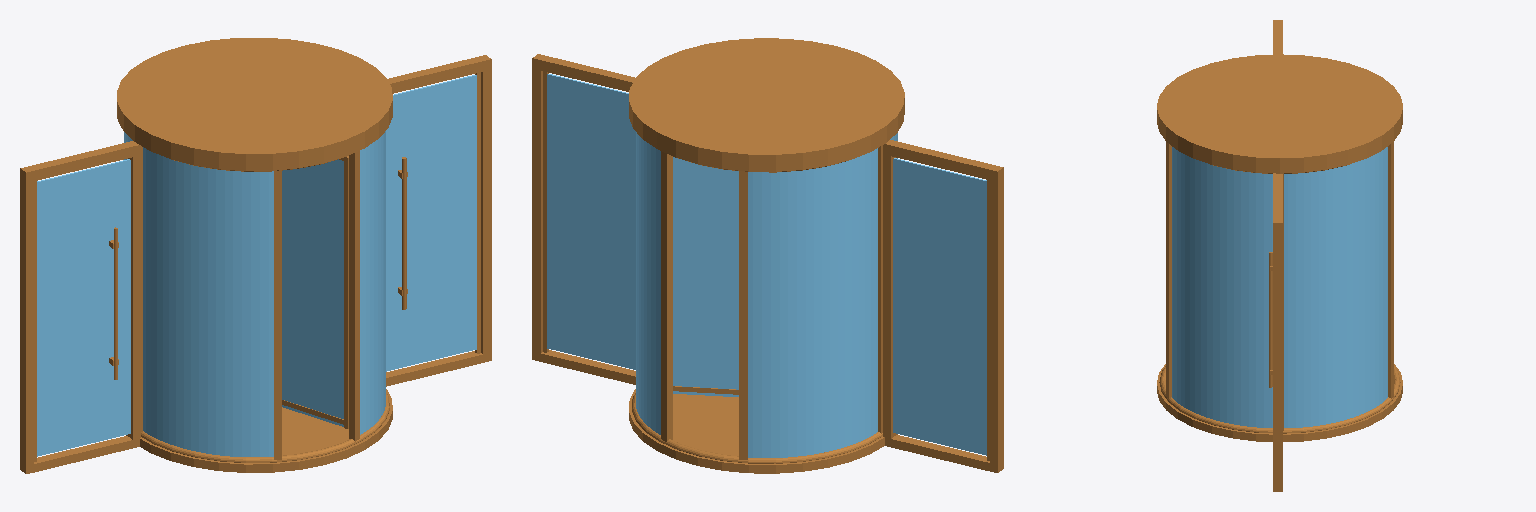
The robot description file, URDF, robot "standalone_revolving_glass_entrance":
<robot name="standalone_revolving_glass_entrance">
  <material name="warm_brushed_bronze">
    <color rgba="0.78 0.55 0.3 1" />
    </material>
  <material name="shadow_bronze_gasket">
    <color rgba="0.23 0.16 0.1 1" />
    </material>
  <material name="slightly_blue_transparent_glass">
    <color rgba="0.55 0.84 1 0.34" />
    </material>
  <link name="central_frame">
    <visual name="floor_disk">
      <origin xyz="0 0 0.04" rpy="0 0 0" />
      <geometry>
        <cylinder radius="1.18" length="0.08" />
        </geometry>
      <material name="warm_brushed_bronze">
        <color rgba="0.78 0.55 0.3 1" />
        </material>
      </visual>
    <visual name="threshold_ring">
      <origin xyz="0 0 0.085" rpy="0 0 0" />
      <geometry>
        <mesh filename="assets/meshes/threshold_ring.obj" />
        </geometry>
      <material name="warm_brushed_bronze">
        <color rgba="0.78 0.55 0.3 1" />
        </material>
      </visual>
    <visual name="canopy_disk">
      <origin xyz="0 0 2.92" rpy="0 0 0" />
      <geometry>
        <cylinder radius="1.18" length="0.16" />
        </geometry>
      <material name="warm_brushed_bronze">
        <color rgba="0.78 0.55 0.3 1" />
        </material>
      </visual>
    <visual name="canopy_ring">
      <origin xyz="0 0 2.85" rpy="0 0 0" />
      <geometry>
        <mesh filename="assets/meshes/canopy_outer_ring.obj" />
        </geometry>
      <material name="warm_brushed_bronze">
        <color rgba="0.78 0.55 0.3 1" />
        </material>
      </visual>
    <visual name="canopy_underside_shadow">
      <origin xyz="0 0 2.84" rpy="0 0 0" />
      <geometry>
        <mesh filename="assets/meshes/canopy_inner_shadow_ring.obj" />
        </geometry>
      <material name="shadow_bronze_gasket">
        <color rgba="0.23 0.16 0.1 1" />
        </material>
      </visual>
    <visual name="right_curved_glass">
      <geometry>
        <mesh filename="assets/meshes/right_curved_glass.obj" />
        </geometry>
      <material name="slightly_blue_transparent_glass">
        <color rgba="0.55 0.84 1 0.34" />
        </material>
      </visual>
    <visual name="left_curved_glass">
      <geometry>
        <mesh filename="assets/meshes/left_curved_glass.obj" />
        </geometry>
      <material name="slightly_blue_transparent_glass">
        <color rgba="0.55 0.84 1 0.34" />
        </material>
      </visual>
    <visual name="perimeter_post_0">
      <origin xyz="0.379642 -1.04306 1.46" rpy="0 0 -1.22173" />
      <geometry>
        <box size="0.07 0.07 2.8" />
        </geometry>
      <material name="warm_brushed_bronze">
        <color rgba="0.78 0.55 0.3 1" />
        </material>
      </visual>
    <visual name="perimeter_post_1">
      <origin xyz="1.11 0 1.46" rpy="0 0 0" />
      <geometry>
        <box size="0.07 0.07 2.8" />
        </geometry>
      <material name="warm_brushed_bronze">
        <color rgba="0.78 0.55 0.3 1" />
        </material>
      </visual>
    <visual name="perimeter_post_2">
      <origin xyz="0.379642 1.04306 1.46" rpy="0 0 1.22173" />
      <geometry>
        <box size="0.07 0.07 2.8" />
        </geometry>
      <material name="warm_brushed_bronze">
        <color rgba="0.78 0.55 0.3 1" />
        </material>
      </visual>
    <visual name="perimeter_post_3">
      <origin xyz="-0.379642 1.04306 1.46" rpy="0 0 1.91986" />
      <geometry>
        <box size="0.07 0.07 2.8" />
        </geometry>
      <material name="warm_brushed_bronze">
        <color rgba="0.78 0.55 0.3 1" />
        </material>
      </visual>
    <visual name="perimeter_post_4">
      <origin xyz="-1.11 1.35936e-16 1.46" rpy="0 0 3.14159" />
      <geometry>
        <box size="0.07 0.07 2.8" />
        </geometry>
      <material name="warm_brushed_bronze">
        <color rgba="0.78 0.55 0.3 1" />
        </material>
      </visual>
    <visual name="perimeter_post_5">
      <origin xyz="-0.379642 -1.04306 1.46" rpy="0 0 4.36332" />
      <geometry>
        <box size="0.07 0.07 2.8" />
        </geometry>
      <material name="warm_brushed_bronze">
        <color rgba="0.78 0.55 0.3 1" />
        </material>
      </visual>
    <visual name="left_frame_outer_jamb">
      <origin xyz="-2.25 -0.02 1.46" rpy="0 0 0" />
      <geometry>
        <box size="0.08 0.1 2.76" />
        </geometry>
      <material name="warm_brushed_bronze">
        <color rgba="0.78 0.55 0.3 1" />
        </material>
      </visual>
    <visual name="left_frame_inner_jamb">
      <origin xyz="-1.2 -0.02 1.46" rpy="0 0 0" />
      <geometry>
        <box size="0.08 0.1 2.76" />
        </geometry>
      <material name="warm_brushed_bronze">
        <color rgba="0.78 0.55 0.3 1" />
        </material>
      </visual>
    <visual name="left_frame_header">
      <origin xyz="-1.725 -0.02 2.79" rpy="0 0 0" />
      <geometry>
        <box size="1.13 0.1 0.1" />
        </geometry>
      <material name="warm_brushed_bronze">
        <color rgba="0.78 0.55 0.3 1" />
        </material>
      </visual>
    <visual name="left_frame_sill">
      <origin xyz="-1.725 -0.02 0.04" rpy="0 0 0" />
      <geometry>
        <box size="1.13 0.1 0.08" />
        </geometry>
      <material name="warm_brushed_bronze">
        <color rgba="0.78 0.55 0.3 1" />
        </material>
      </visual>
    <visual name="right_frame_outer_jamb">
      <origin xyz="2.25 -0.02 1.46" rpy="0 0 0" />
      <geometry>
        <box size="0.08 0.1 2.76" />
        </geometry>
      <material name="warm_brushed_bronze">
        <color rgba="0.78 0.55 0.3 1" />
        </material>
      </visual>
    <visual name="right_frame_inner_jamb">
      <origin xyz="1.2 -0.02 1.46" rpy="0 0 0" />
      <geometry>
        <box size="0.08 0.1 2.76" />
        </geometry>
      <material name="warm_brushed_bronze">
        <color rgba="0.78 0.55 0.3 1" />
        </material>
      </visual>
    <visual name="right_frame_header">
      <origin xyz="1.725 -0.02 2.79" rpy="0 0 0" />
      <geometry>
        <box size="1.13 0.1 0.1" />
        </geometry>
      <material name="warm_brushed_bronze">
        <color rgba="0.78 0.55 0.3 1" />
        </material>
      </visual>
    <visual name="right_frame_sill">
      <origin xyz="1.725 -0.02 0.04" rpy="0 0 0" />
      <geometry>
        <box size="1.13 0.1 0.08" />
        </geometry>
      <material name="warm_brushed_bronze">
        <color rgba="0.78 0.55 0.3 1" />
        </material>
      </visual>
    </link>
  <link name="carousel">
    <visual name="central_shaft">
      <origin xyz="0 0 1.46" rpy="0 0 0" />
      <geometry>
        <cylinder radius="0.16" length="2.76" />
        </geometry>
      <material name="warm_brushed_bronze">
        <color rgba="0.78 0.55 0.3 1" />
        </material>
      </visual>
    <visual name="leaf_0_glass">
      <origin xyz="0.545089 0.225783 1.435" rpy="0 0 0.392699" />
      <geometry>
        <box size="0.86 0.02 2.55" />
        </geometry>
      <material name="slightly_blue_transparent_glass">
        <color rgba="0.55 0.84 1 0.34" />
        </material>
      </visual>
    <visual name="leaf_0_inner_clamp">
      <origin xyz="0.170918 0.0707964 1.435" rpy="0 0 0.392699" />
      <geometry>
        <box size="0.09 0.045 2.57" />
        </geometry>
      <material name="warm_brushed_bronze">
        <color rgba="0.78 0.55 0.3 1" />
        </material>
      </visual>
    <visual name="leaf_0_outer_cap">
      <origin xyz="0.92388 0.382683 1.435" rpy="0 0 0.392699" />
      <geometry>
        <box size="0.04 0.045 2.55" />
        </geometry>
      <material name="warm_brushed_bronze">
        <color rgba="0.78 0.55 0.3 1" />
        </material>
      </visual>
    <visual name="leaf_0_bottom_rail">
      <origin xyz="0.545089 0.225783 0.21" rpy="0 0 0.392699" />
      <geometry>
        <box size="0.86 0.035 0.045" />
        </geometry>
      <material name="warm_brushed_bronze">
        <color rgba="0.78 0.55 0.3 1" />
        </material>
      </visual>
    <visual name="leaf_0_top_rail">
      <origin xyz="0.545089 0.225783 2.69" rpy="0 0 0.392699" />
      <geometry>
        <box size="0.86 0.035 0.045" />
        </geometry>
      <material name="warm_brushed_bronze">
        <color rgba="0.78 0.55 0.3 1" />
        </material>
      </visual>
    <visual name="leaf_1_glass">
      <origin xyz="-0.225783 0.545089 1.435" rpy="0 0 1.9635" />
      <geometry>
        <box size="0.86 0.02 2.55" />
        </geometry>
      <material name="slightly_blue_transparent_glass">
        <color rgba="0.55 0.84 1 0.34" />
        </material>
      </visual>
    <visual name="leaf_1_inner_clamp">
      <origin xyz="-0.0707964 0.170918 1.435" rpy="0 0 1.9635" />
      <geometry>
        <box size="0.09 0.045 2.57" />
        </geometry>
      <material name="warm_brushed_bronze">
        <color rgba="0.78 0.55 0.3 1" />
        </material>
      </visual>
    <visual name="leaf_1_outer_cap">
      <origin xyz="-0.382683 0.92388 1.435" rpy="0 0 1.9635" />
      <geometry>
        <box size="0.04 0.045 2.55" />
        </geometry>
      <material name="warm_brushed_bronze">
        <color rgba="0.78 0.55 0.3 1" />
        </material>
      </visual>
    <visual name="leaf_1_bottom_rail">
      <origin xyz="-0.225783 0.545089 0.21" rpy="0 0 1.9635" />
      <geometry>
        <box size="0.86 0.035 0.045" />
        </geometry>
      <material name="warm_brushed_bronze">
        <color rgba="0.78 0.55 0.3 1" />
        </material>
      </visual>
    <visual name="leaf_1_top_rail">
      <origin xyz="-0.225783 0.545089 2.69" rpy="0 0 1.9635" />
      <geometry>
        <box size="0.86 0.035 0.045" />
        </geometry>
      <material name="warm_brushed_bronze">
        <color rgba="0.78 0.55 0.3 1" />
        </material>
      </visual>
    <visual name="leaf_2_glass">
      <origin xyz="-0.545089 -0.225783 1.435" rpy="0 0 3.53429" />
      <geometry>
        <box size="0.86 0.02 2.55" />
        </geometry>
      <material name="slightly_blue_transparent_glass">
        <color rgba="0.55 0.84 1 0.34" />
        </material>
      </visual>
    <visual name="leaf_2_inner_clamp">
      <origin xyz="-0.170918 -0.0707964 1.435" rpy="0 0 3.53429" />
      <geometry>
        <box size="0.09 0.045 2.57" />
        </geometry>
      <material name="warm_brushed_bronze">
        <color rgba="0.78 0.55 0.3 1" />
        </material>
      </visual>
    <visual name="leaf_2_outer_cap">
      <origin xyz="-0.92388 -0.382683 1.435" rpy="0 0 3.53429" />
      <geometry>
        <box size="0.04 0.045 2.55" />
        </geometry>
      <material name="warm_brushed_bronze">
        <color rgba="0.78 0.55 0.3 1" />
        </material>
      </visual>
    <visual name="leaf_2_bottom_rail">
      <origin xyz="-0.545089 -0.225783 0.21" rpy="0 0 3.53429" />
      <geometry>
        <box size="0.86 0.035 0.045" />
        </geometry>
      <material name="warm_brushed_bronze">
        <color rgba="0.78 0.55 0.3 1" />
        </material>
      </visual>
    <visual name="leaf_2_top_rail">
      <origin xyz="-0.545089 -0.225783 2.69" rpy="0 0 3.53429" />
      <geometry>
        <box size="0.86 0.035 0.045" />
        </geometry>
      <material name="warm_brushed_bronze">
        <color rgba="0.78 0.55 0.3 1" />
        </material>
      </visual>
    <visual name="leaf_3_glass">
      <origin xyz="0.225783 -0.545089 1.435" rpy="0 0 5.10509" />
      <geometry>
        <box size="0.86 0.02 2.55" />
        </geometry>
      <material name="slightly_blue_transparent_glass">
        <color rgba="0.55 0.84 1 0.34" />
        </material>
      </visual>
    <visual name="leaf_3_inner_clamp">
      <origin xyz="0.0707964 -0.170918 1.435" rpy="0 0 5.10509" />
      <geometry>
        <box size="0.09 0.045 2.57" />
        </geometry>
      <material name="warm_brushed_bronze">
        <color rgba="0.78 0.55 0.3 1" />
        </material>
      </visual>
    <visual name="leaf_3_outer_cap">
      <origin xyz="0.382683 -0.92388 1.435" rpy="0 0 5.10509" />
      <geometry>
        <box size="0.04 0.045 2.55" />
        </geometry>
      <material name="warm_brushed_bronze">
        <color rgba="0.78 0.55 0.3 1" />
        </material>
      </visual>
    <visual name="leaf_3_bottom_rail">
      <origin xyz="0.225783 -0.545089 0.21" rpy="0 0 5.10509" />
      <geometry>
        <box size="0.86 0.035 0.045" />
        </geometry>
      <material name="warm_brushed_bronze">
        <color rgba="0.78 0.55 0.3 1" />
        </material>
      </visual>
    <visual name="leaf_3_top_rail">
      <origin xyz="0.225783 -0.545089 2.69" rpy="0 0 5.10509" />
      <geometry>
        <box size="0.86 0.035 0.045" />
        </geometry>
      <material name="warm_brushed_bronze">
        <color rgba="0.78 0.55 0.3 1" />
        </material>
      </visual>
    </link>
  <link name="left_door">
    <visual name="glass_panel">
      <origin xyz="0.505 0 1.33" rpy="0 0 0" />
      <geometry>
        <box size="0.93 0.018 2.58" />
        </geometry>
      <material name="slightly_blue_transparent_glass">
        <color rgba="0.55 0.84 1 0.34" />
        </material>
      </visual>
    <visual name="hinge_strip">
      <origin xyz="0.02 0 1.33" rpy="0 0 0" />
      <geometry>
        <box size="0.04 0.035 2.66" />
        </geometry>
      <material name="warm_brushed_bronze">
        <color rgba="0.78 0.55 0.3 1" />
        </material>
      </visual>
    <visual name="pull_handle">
      <origin xyz="0.79 -0.07 1.33" rpy="0 0 0" />
      <geometry>
        <cylinder radius="0.02" length="1.42" />
        </geometry>
      <material name="warm_brushed_bronze">
        <color rgba="0.78 0.55 0.3 1" />
        </material>
      </visual>
    <visual name="handle_mount_0">
      <origin xyz="0.79 -0.035 0.78" rpy="0 0 0" />
      <geometry>
        <box size="0.06 0.085 0.05" />
        </geometry>
      <material name="warm_brushed_bronze">
        <color rgba="0.78 0.55 0.3 1" />
        </material>
      </visual>
    <visual name="handle_mount_1">
      <origin xyz="0.79 -0.035 1.88" rpy="0 0 0" />
      <geometry>
        <box size="0.06 0.085 0.05" />
        </geometry>
      <material name="warm_brushed_bronze">
        <color rgba="0.78 0.55 0.3 1" />
        </material>
      </visual>
    </link>
  <link name="right_door">
    <visual name="glass_panel">
      <origin xyz="-0.505 0 1.33" rpy="0 0 0" />
      <geometry>
        <box size="0.93 0.018 2.58" />
        </geometry>
      <material name="slightly_blue_transparent_glass">
        <color rgba="0.55 0.84 1 0.34" />
        </material>
      </visual>
    <visual name="hinge_strip">
      <origin xyz="-0.02 0 1.33" rpy="0 0 0" />
      <geometry>
        <box size="0.04 0.035 2.66" />
        </geometry>
      <material name="warm_brushed_bronze">
        <color rgba="0.78 0.55 0.3 1" />
        </material>
      </visual>
    <visual name="pull_handle">
      <origin xyz="-0.79 -0.07 1.33" rpy="0 0 0" />
      <geometry>
        <cylinder radius="0.02" length="1.42" />
        </geometry>
      <material name="warm_brushed_bronze">
        <color rgba="0.78 0.55 0.3 1" />
        </material>
      </visual>
    <visual name="handle_mount_0">
      <origin xyz="-0.79 -0.035 0.78" rpy="0 0 0" />
      <geometry>
        <box size="0.06 0.085 0.05" />
        </geometry>
      <material name="warm_brushed_bronze">
        <color rgba="0.78 0.55 0.3 1" />
        </material>
      </visual>
    <visual name="handle_mount_1">
      <origin xyz="-0.79 -0.035 1.88" rpy="0 0 0" />
      <geometry>
        <box size="0.06 0.085 0.05" />
        </geometry>
      <material name="warm_brushed_bronze">
        <color rgba="0.78 0.55 0.3 1" />
        </material>
      </visual>
    </link>
  <joint name="frame_to_carousel" type="continuous">
    <parent link="central_frame" />
    <child link="carousel" />
    <axis xyz="0 0 1" />
    <limit effort="35" velocity="1.2" />
    </joint>
  <joint name="frame_to_left_door" type="revolute">
    <origin xyz="-2.21 -0.02 0.08" rpy="0 0 0" />
    <parent link="central_frame" />
    <child link="left_door" />
    <axis xyz="0 0 1" />
    <limit effort="12" velocity="0.8" lower="0" upper="1.25" />
    </joint>
  <joint name="frame_to_right_door" type="revolute">
    <origin xyz="2.21 -0.02 0.08" rpy="0 0 0" />
    <parent link="central_frame" />
    <child link="right_door" />
    <axis xyz="0 0 -1" />
    <limit effort="12" velocity="0.8" lower="0" upper="1.25" />
    </joint>
  </robot>

--- Render facts (derived) ---
The picture shows the robot from 3 angles, left to right: view 1: azimuth 30°, elevation 25°; view 2: azimuth 150°, elevation 25°; view 3: azimuth 270°, elevation 25°; orthographic projection.
Model standalone_revolving_glass_entrance with 4 links and 3 joints (2 revolute, 1 continuous), rooted at central_frame, posed every joint at zero.
Links seen in each view (by area): view 1: central_frame, left_door, right_door, carousel; view 2: central_frame, left_door, right_door, carousel; view 3: central_frame, right_door.
Boxes of the visible links, bbox=[...] form: central_frame: bbox=[20, 38, 491, 473]; left_door: bbox=[34, 159, 130, 461]; right_door: bbox=[386, 72, 480, 371]; carousel: bbox=[282, 156, 348, 428]; central_frame: bbox=[532, 38, 1003, 473]; left_door: bbox=[893, 158, 989, 460]; right_door: bbox=[543, 71, 635, 369]; carousel: bbox=[673, 157, 738, 396]; central_frame: bbox=[1157, 20, 1402, 491]; right_door: bbox=[1269, 252, 1272, 387].
Bounding box of the posed robot: 4.58 × 2.36 × 3 m (x, y, z).
Meshes: 5 distinct files referenced, 5 mesh visuals loaded (5 OBJ).
